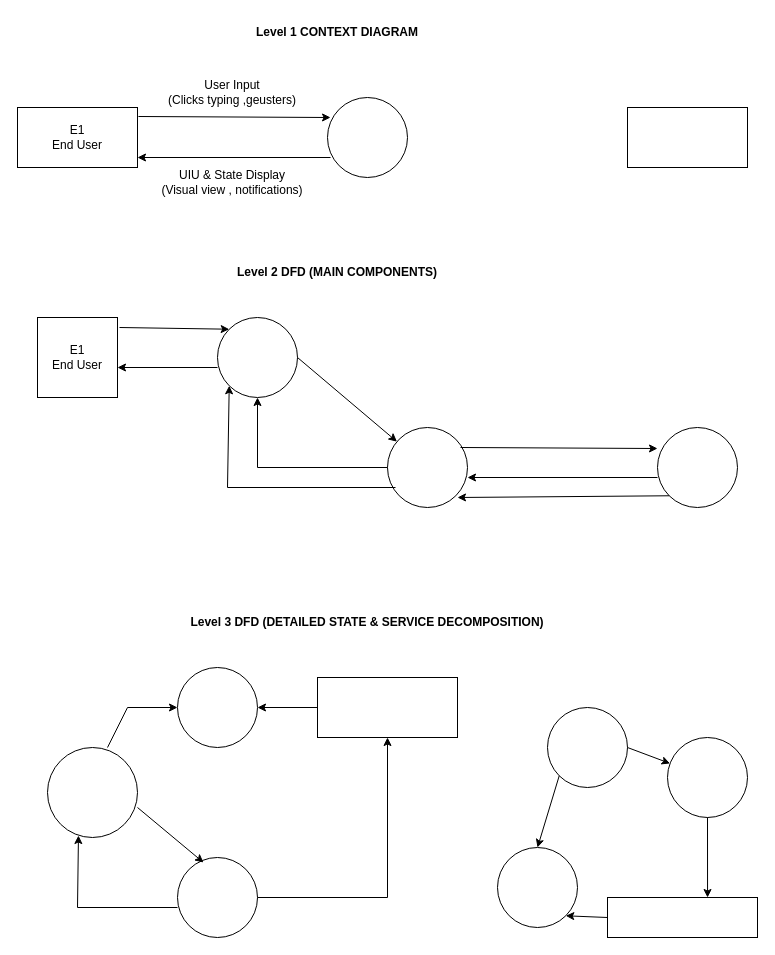
Image size: 775x955. Some labels were removed from this diagram. Here are the shapes that lost their labels. From the top down, the box of each, then its label:
(326, 96, 408, 178): Read Spa Sytem
(626, 106, 748, 168): E2 Extrenal System ( none , but boundary)
